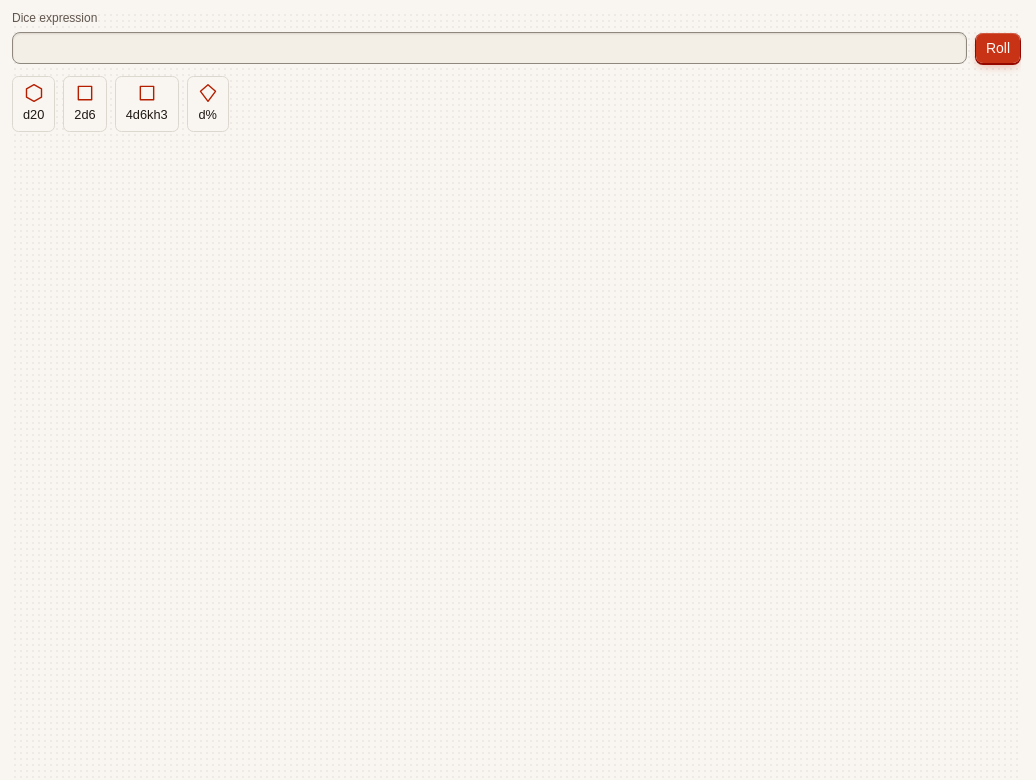
Test: DiceRoller › says what is missing on a blank submit, until the player types again
Click the button "Roll" at (998, 48), box [975,32,1021,64]
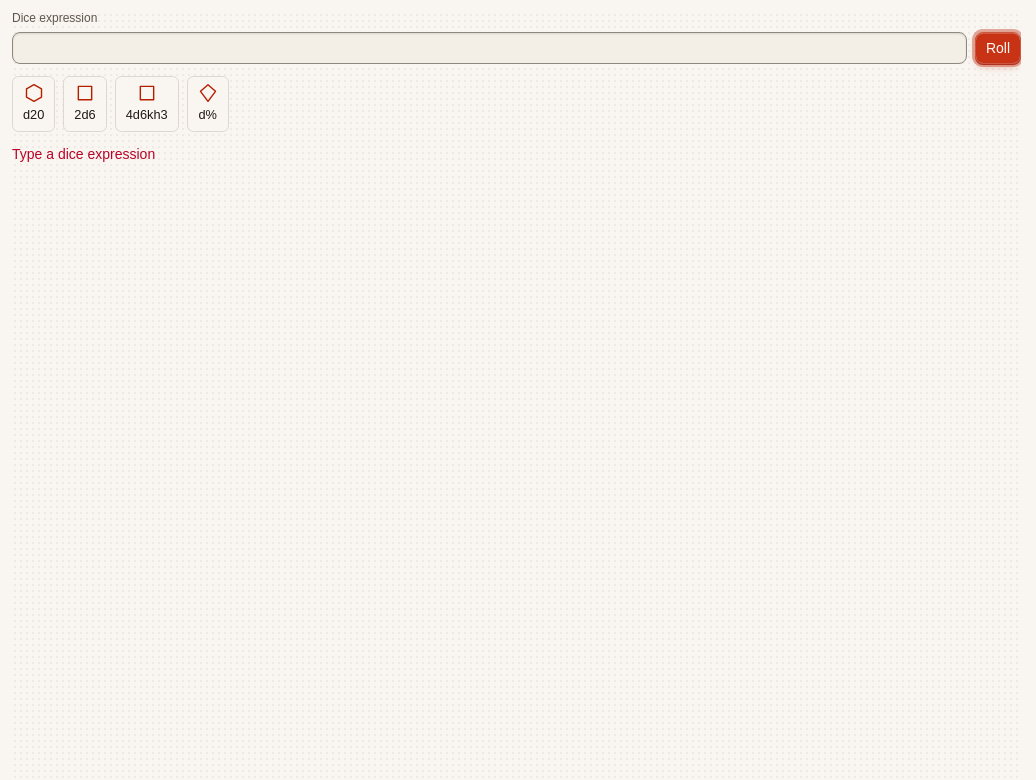
Now the message reads "Type a dice expression", box [12,146,155,162]
Type "1" into the field labelled "Dice expression" at (489, 48), box [12,32,967,64]
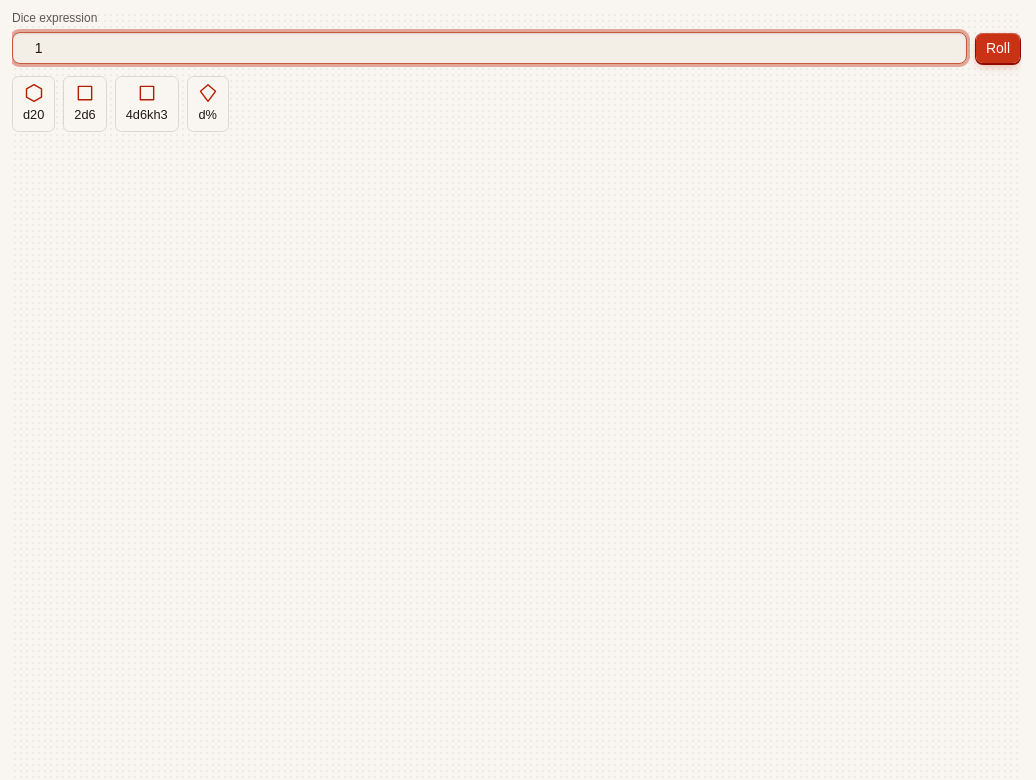
Now the message "Type a dice expression" is gone
